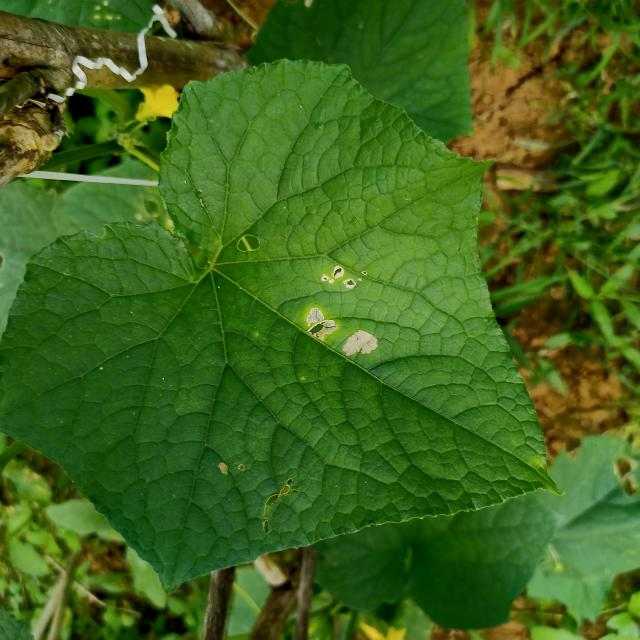disease_cucumber: (303, 258, 381, 360)
